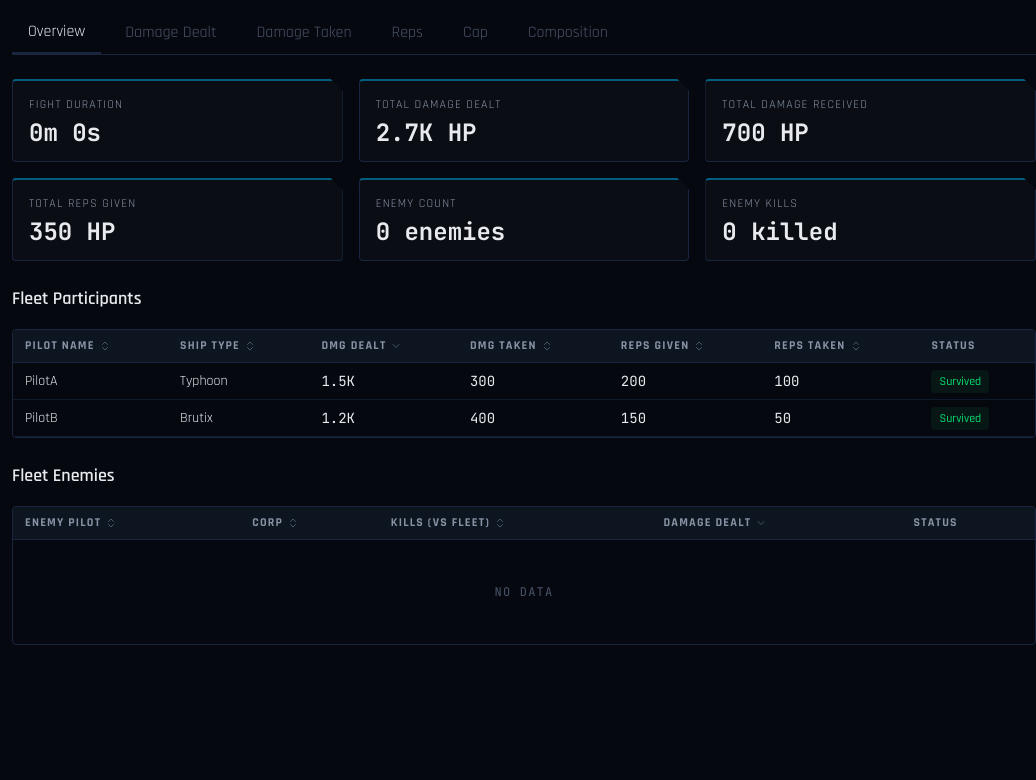
it: Fleet Component Integration Tests › switches tabs without page reload
Expected: the text "Fight Duration" is shown, [29, 97, 123, 112]
Note: Click on "Damage Dealt" tab
What coordinates should you click on to do the following:
click the button "Damage Dealt"
I would click on:
 (171, 33)
Its box is [109, 12, 232, 54].
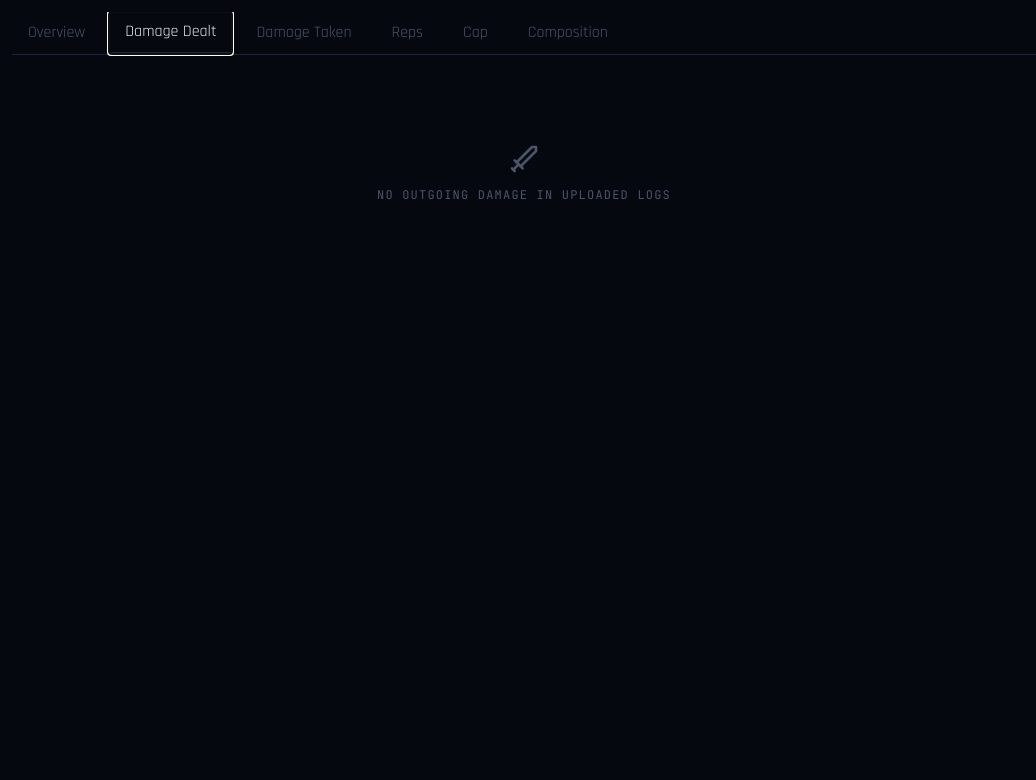
Expected: the text "No outgoing damage in uploaded logs" is shown, [377, 187, 671, 203]
Note: Click back to Overview
What coordinates should you click on to do the following:
click the button "Overview"
I would click on:
 (57, 33)
Its box is [12, 12, 101, 54].
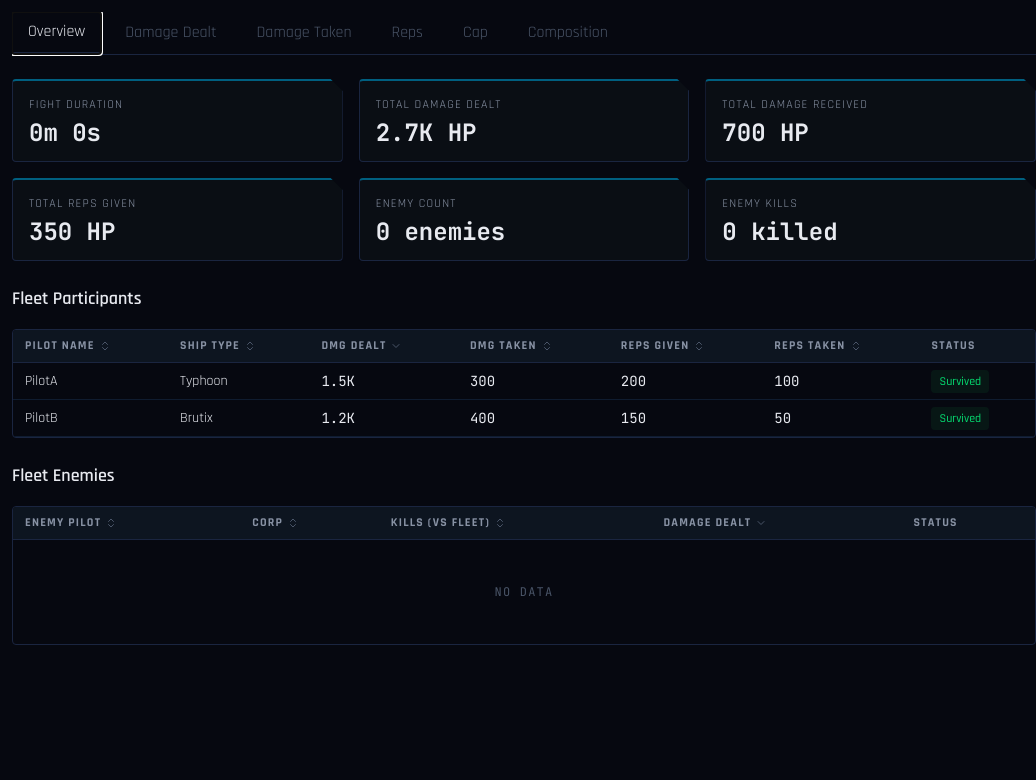
Expected: the text "Fight Duration" is shown, [29, 97, 123, 112]
